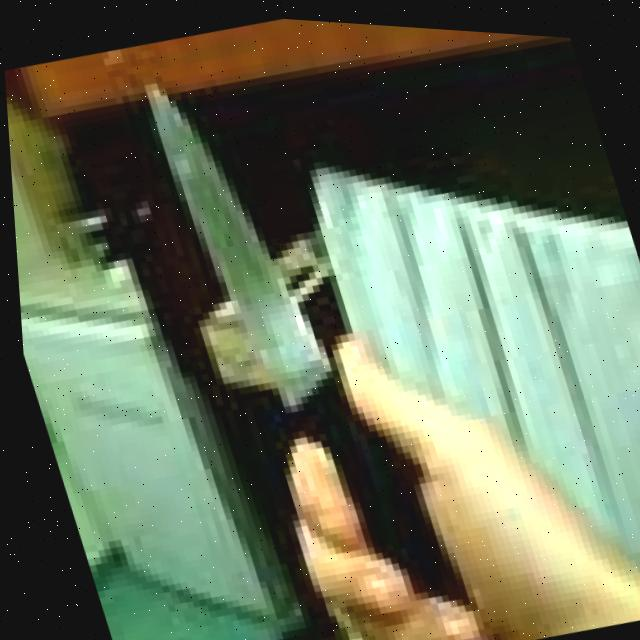knife: (133, 52, 350, 449)
